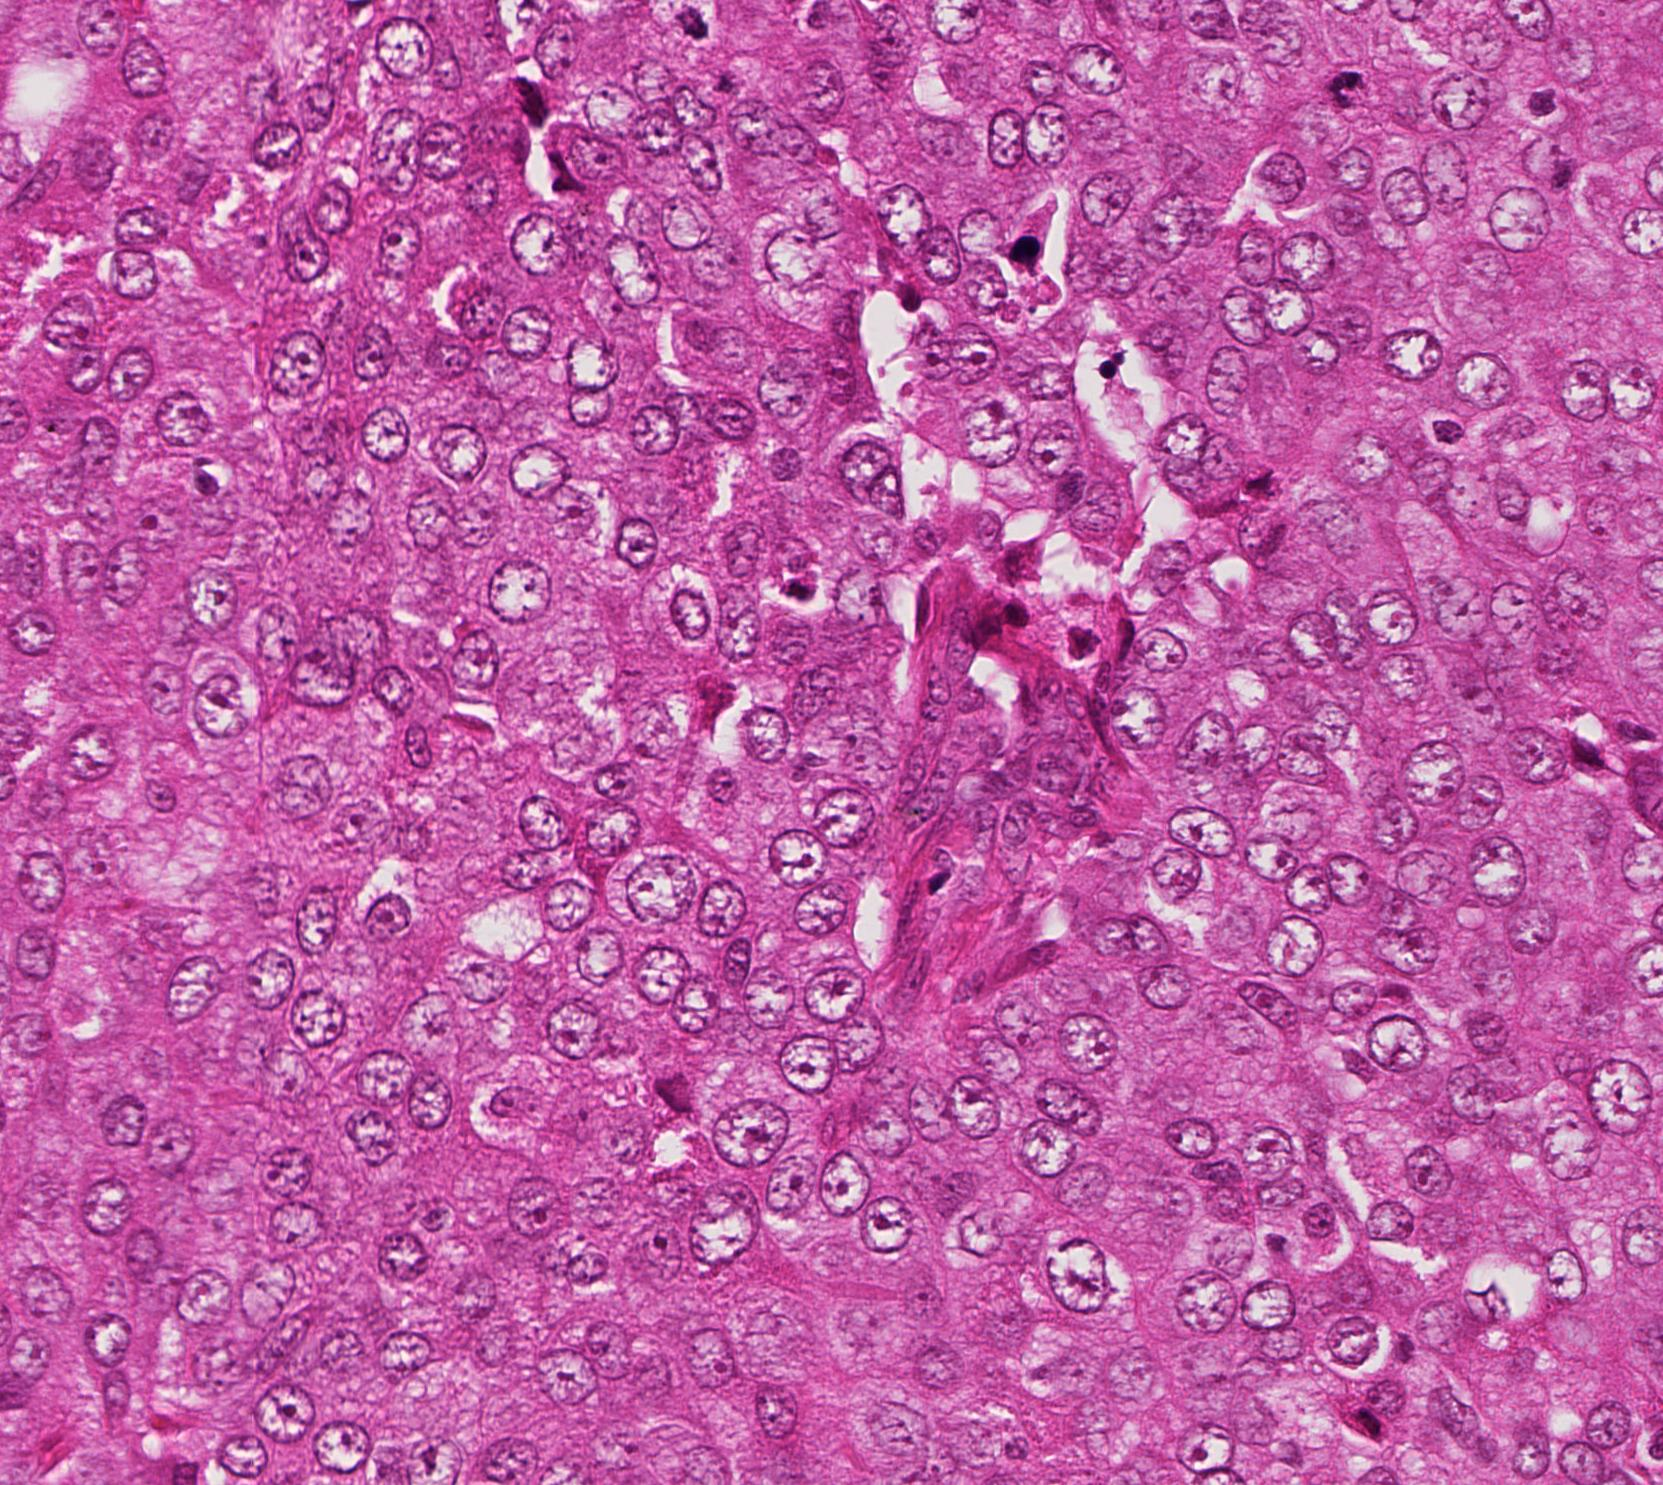mitosis: (1325, 57, 1383, 118), (664, 0, 724, 54)
